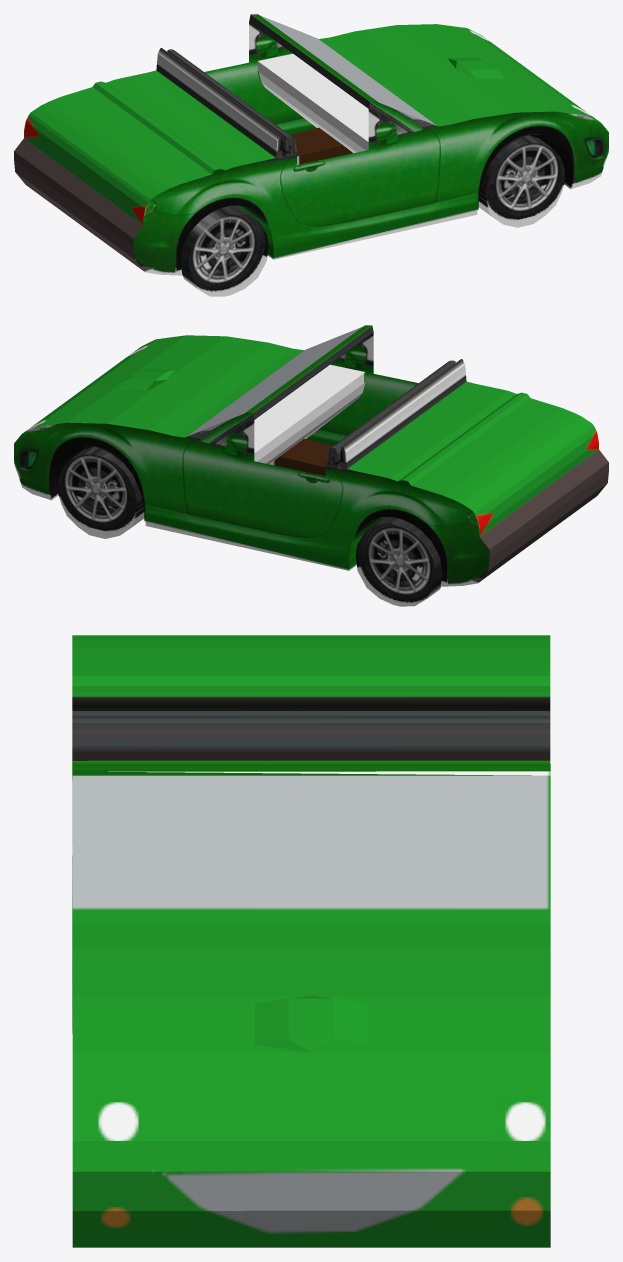
File: auto.DAE
The picture shows the model from 3 angles, top to bottom: view 1: azimuth 30°, elevation 25°; view 2: azimuth 150°, elevation 25°; view 3: azimuth 270°, elevation 25°; orthographic projection. The views are drawn at different scales.
Parts seen in each view (by area): view 1: autoVerde; view 2: autoVerde; view 3: autoVerde.
Part boxes in pixels (bbox=[...]): autoVerde: bbox=[14, 14, 608, 296]; autoVerde: bbox=[14, 325, 608, 606]; autoVerde: bbox=[72, 635, 550, 1247].
Bounding box in the file's own units: 3.87 × 1.26 × 1.69.
